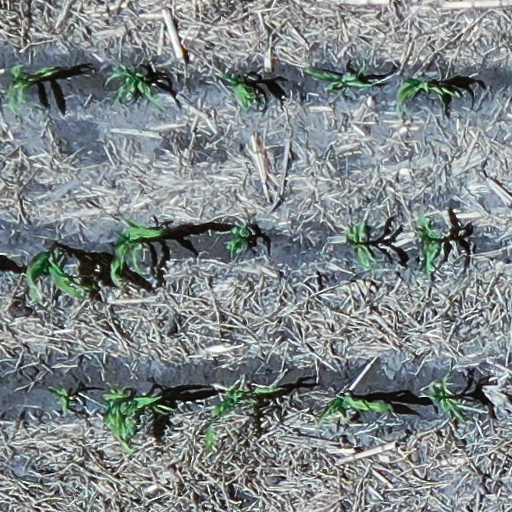planta: (203, 385, 285, 459), (103, 387, 163, 454), (110, 217, 163, 283), (23, 252, 89, 300), (317, 395, 396, 434), (5, 65, 65, 115), (298, 63, 384, 93), (105, 69, 163, 110), (397, 78, 457, 109), (213, 73, 262, 109), (427, 378, 465, 421), (345, 218, 376, 269), (416, 214, 441, 277)
